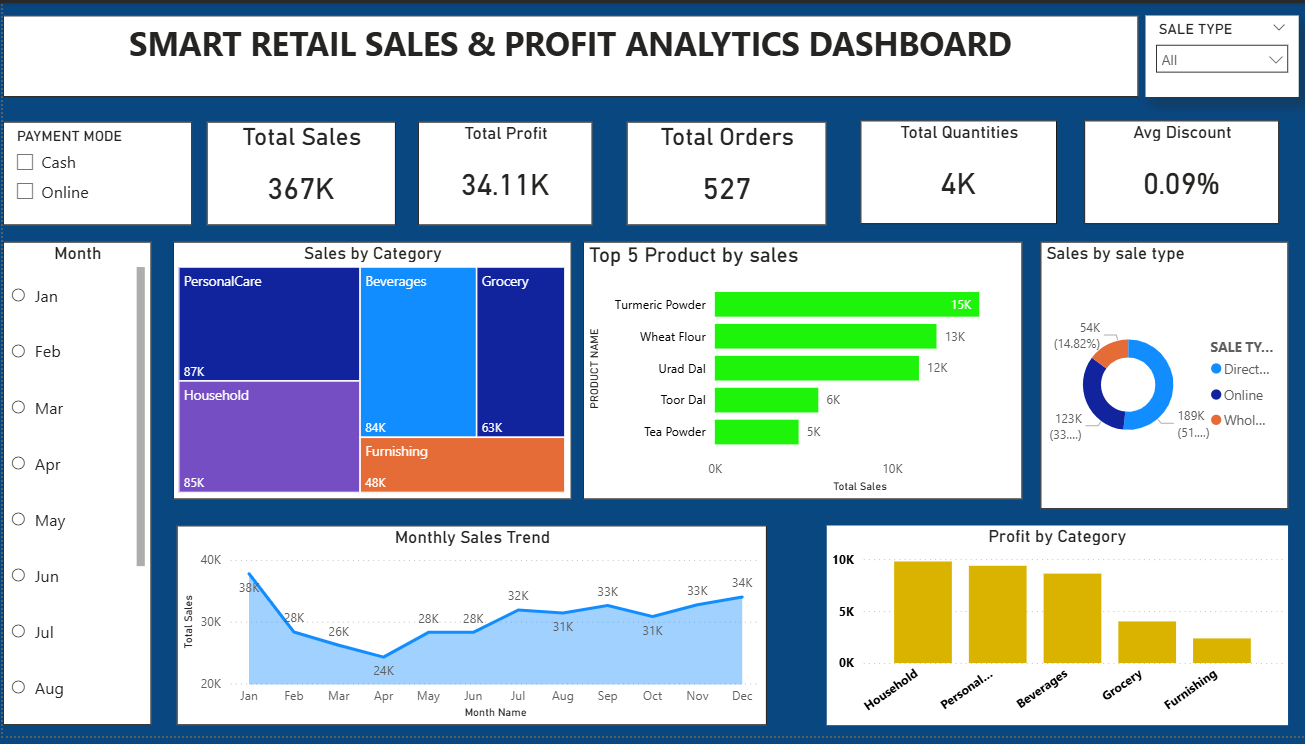

The page's visual inventory and layout, read from the dashboard file:
{"tool":"powerbi","page":{"name":"Page 2","canvas":[1280,720],"ordinal":0},"visuals":[{"type":"textbox","box":[0,12.2,1114.3,80.1],"z":0},{"type":"slicer","fields":{"Values":["InputData.SALE TYPE"]},"box":[1122.1,12.2,150.3,80.1],"z":1000},{"type":"slicer","fields":{"Values":["InputData.PAYMENT MODE"]},"box":[0,116.6,185.2,101.5],"z":2000},{"type":"card","title":"Total Sales","fields":{"Values":["Measures (2).Total Sales"]},"box":[200.3,116.6,185.2,101.5],"z":3000},{"type":"card","title":"Total Orders","fields":{"Values":["Measures (2).Total Orders"]},"box":[612.2,116.9,195.9,101.3],"z":4000},{"type":"card","title":"Total Quantities","fields":{"Values":["Measures (2).Total Quantity Sold"]},"box":[841.6,115.8,192.6,101.3],"z":5000},{"type":"card","title":"Avg Discount","fields":{"Values":["Measures (2).Average Discount"]},"box":[1061.4,115.3,191.4,101.8],"z":6000},{"type":"card","title":"Total Profit","fields":{"Values":["Measures (2).Total Profit"]},"box":[407.4,116.9,171.4,101.3],"z":7000},{"type":"listSlicer","title":"Month ","fields":{"Values":["InputData.Month Name"]},"box":[0,234.6,145.5,474.8],"z":8000},{"type":"treemap","title":"Sales by Category","fields":{"Group":["MasterData.CATEGORY"],"Values":["Measures (2).Total Sales"]},"box":[167.4,234.6,391.1,252.5],"z":9000},{"type":"donutChart","title":"Sales by sale type","fields":{"Category":["InputData.SALE TYPE"],"Y":["Measures (2).Total Sales"]},"box":[1018.2,234.6,242.9,262.1],"z":10000},{"type":"barChart","title":"Top 5 Product by sales","fields":{"Category":["MasterData.PRODUCT NAME"],"Y":["Measures (2).Total Sales"]},"box":[569.5,234.6,430.9,252.5],"z":11000},{"type":"lineChart","title":"Monthly Sales Trend","fields":{"Category":["InputData.Month Name"],"Y":["Measures (2).Total Sales"]},"box":[170.2,513.2,579.1,196.2],"z":12000},{"type":"clusteredColumnChart","title":"Profit by Category","fields":{"Category":["MasterData.CATEGORY"],"Y":["Measures (2).Total Profit"]},"box":[808.2,513.2,452.8,196.2],"z":13000}]}

Visuals, with their boxes in screenshot pixels (x1, y1, x2, y2), scaled from the page's 1280x720 canvas onto the 1305x744 screenshot:
textbox: locate(0, 13, 1136, 95)
slicer - InputData.SALE TYPE: locate(1144, 13, 1297, 95)
slicer - InputData.PAYMENT MODE: locate(0, 120, 189, 225)
"Total Sales" card: locate(204, 120, 393, 225)
"Total Orders" card: locate(624, 121, 824, 225)
"Total Quantities" card: locate(858, 120, 1054, 224)
"Avg Discount" card: locate(1082, 119, 1277, 224)
"Total Profit" card: locate(415, 121, 590, 225)
"Month " listSlicer: locate(0, 242, 148, 733)
"Sales by Category" treemap: locate(171, 242, 569, 503)
"Sales by sale type" donutChart: locate(1038, 242, 1286, 513)
"Top 5 Product by sales" barChart: locate(581, 242, 1020, 503)
"Monthly Sales Trend" lineChart: locate(174, 530, 764, 733)
"Profit by Category" clusteredColumnChart: locate(824, 530, 1286, 733)
